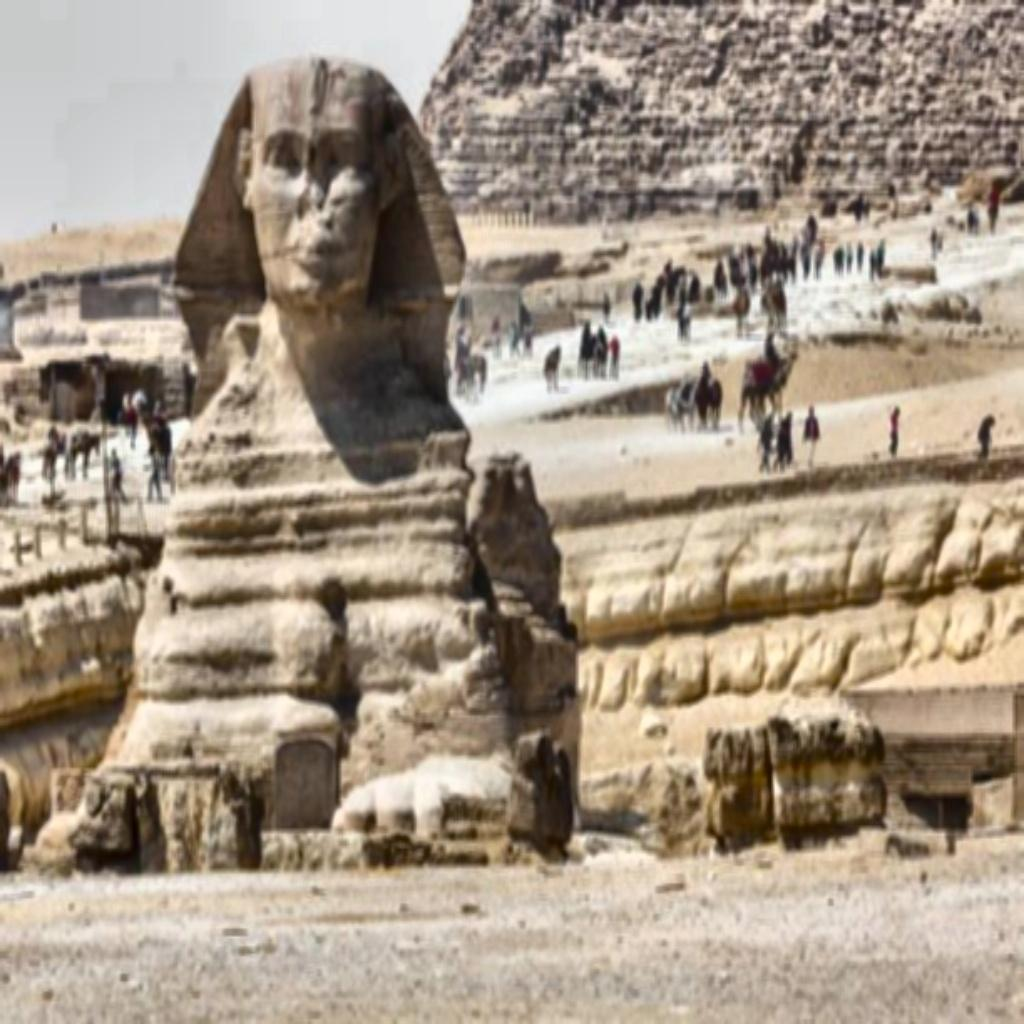Sphinx: (70, 50, 584, 861)
